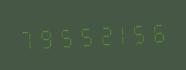five: (55, 21, 73, 51), (74, 20, 92, 50), (131, 18, 149, 47)
nine: (36, 22, 54, 52)
one: (112, 19, 130, 48)
seven: (17, 23, 35, 53)
six: (150, 17, 168, 46)
two: (93, 19, 111, 49)
